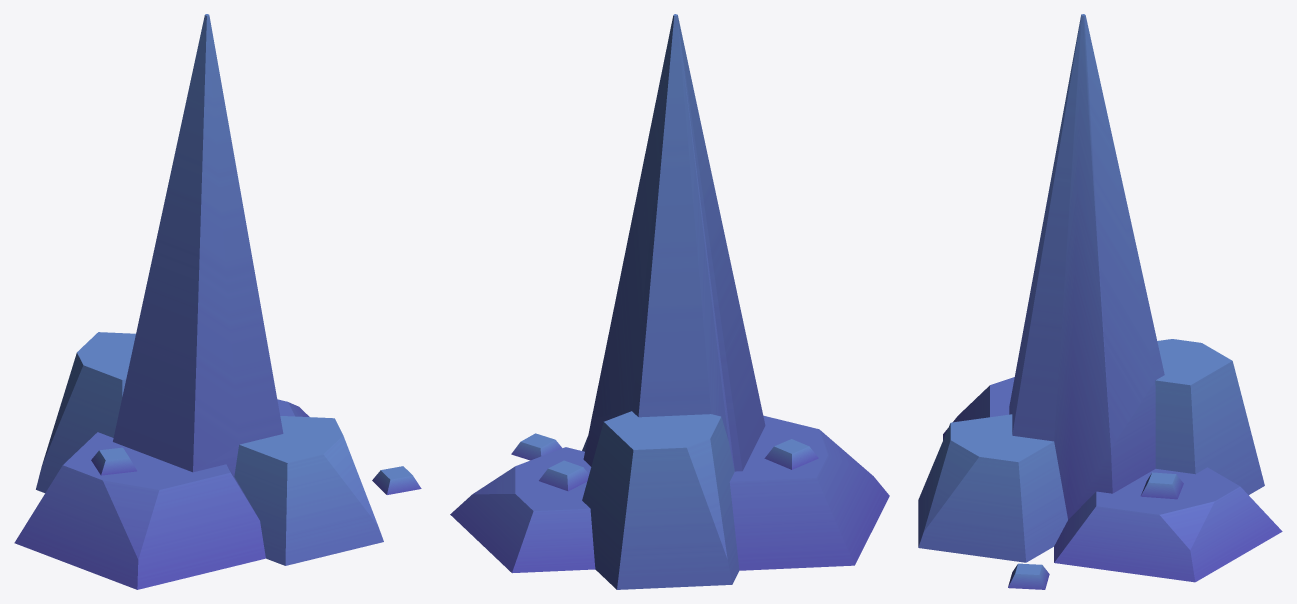
File: pedra pontuda 2 azul.glb
3 views of the same model, side by side, from view 1: azimuth 30°, elevation 25°; view 2: azimuth 150°, elevation 25°; view 3: azimuth 270°, elevation 25° (orthographic). The views are drawn at different scales.
Visible parts, largest first — view 1: rock-b; view 2: rock-b; view 3: rock-b.
Part boxes in pixels (x1,y1,x2,y2): rock-b: (14, 14, 421, 589); rock-b: (450, 14, 889, 589); rock-b: (918, 14, 1282, 589).
Bounding box in the file's own units: 0.8346 × 1.07 × 0.7247.
1 material, 1 textured.
